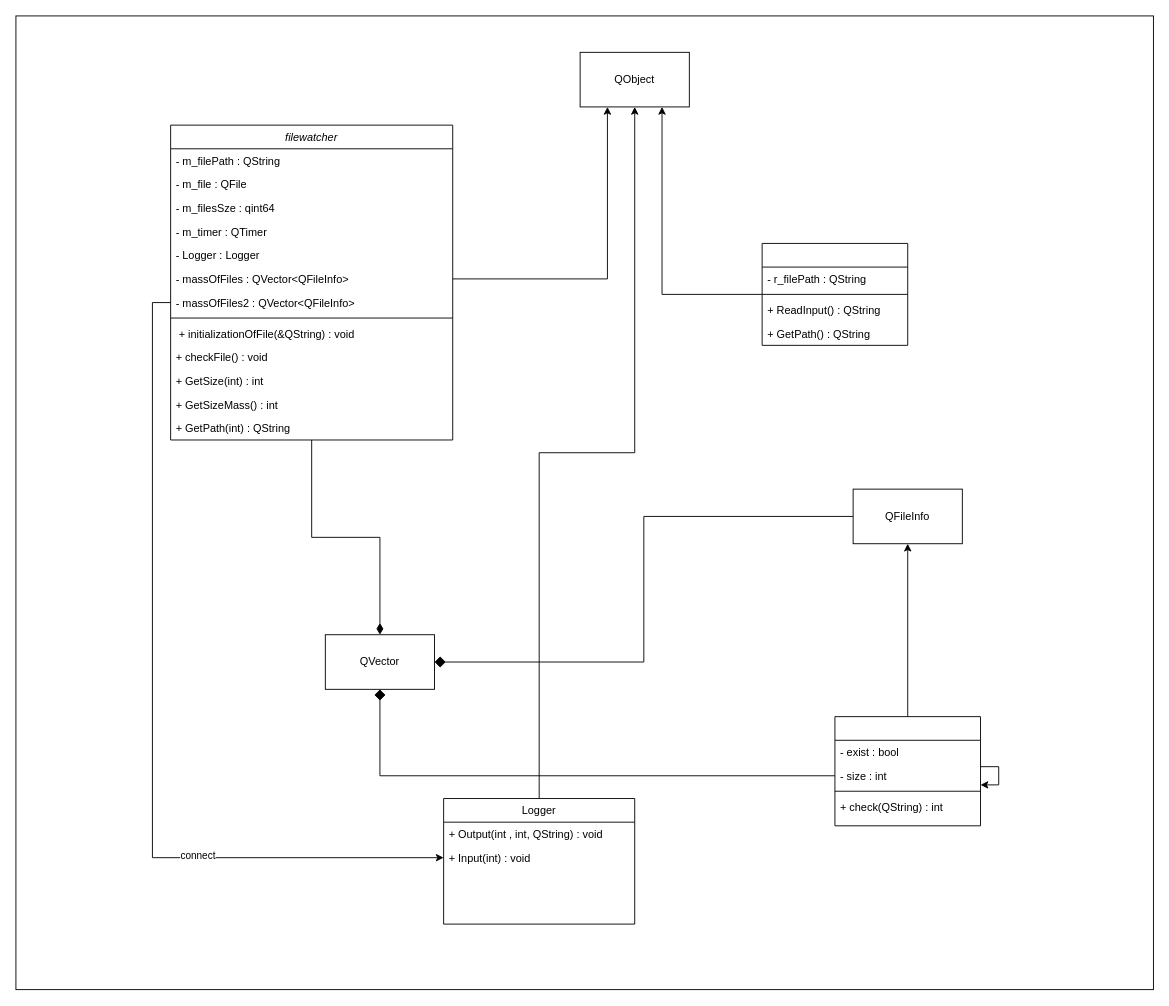
The diagram is 1169 pixels wide and 1006 high, and some of its shapes have lost their labels. Here are the shapes that lost their labels. From the top down, the box of each, then its label:
(761, 243, 908, 345): inputReader
(834, 716, 981, 826): fileInform
